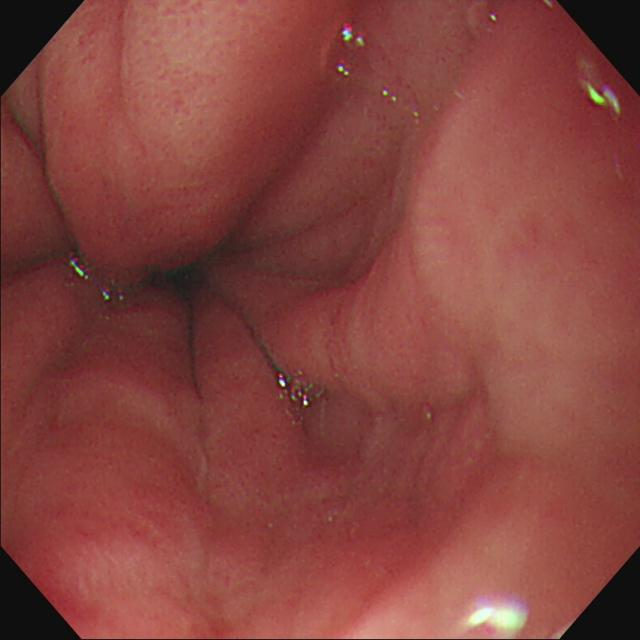A: (113, 7, 268, 173)
E: (152, 261, 213, 306)
U: (461, 599, 529, 640), (275, 367, 322, 417), (585, 83, 623, 117), (67, 251, 97, 289), (340, 22, 369, 50), (334, 61, 359, 80)
